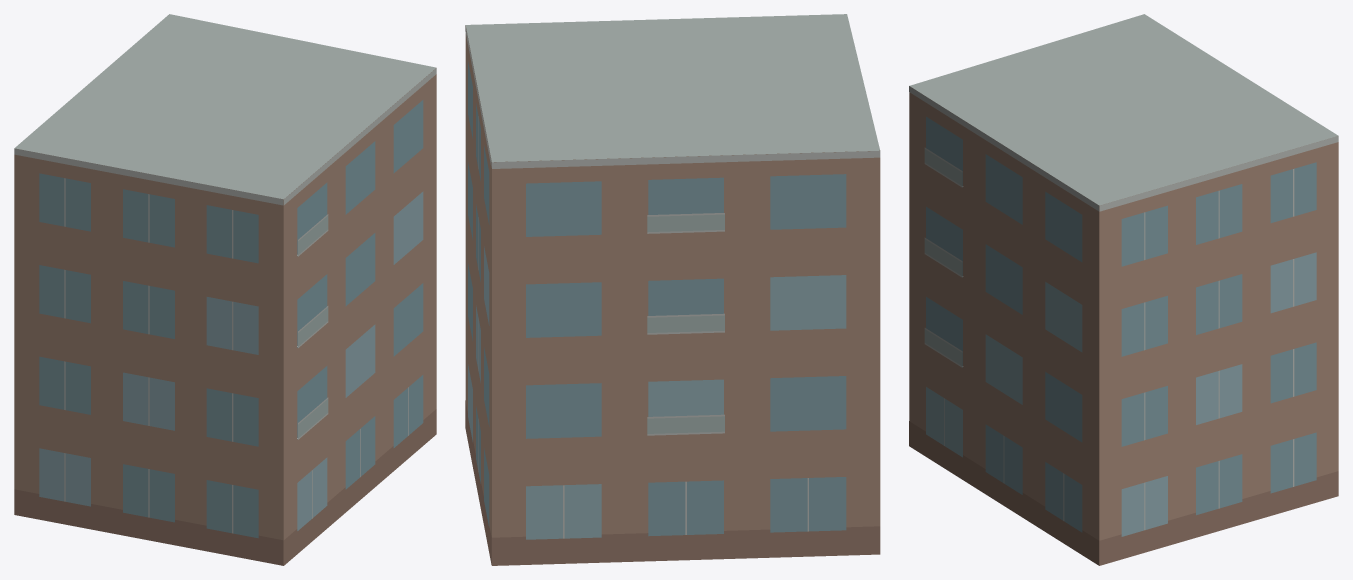
Rendered from survey-upis-32918822.glb.
3 renders of one model, left to right at view 1: azimuth 30°, elevation 25°; view 2: azimuth 150°, elevation 25°; view 3: azimuth 270°, elevation 25°, orthographic. The views are drawn at different scales.
Visible parts, largest first — view 1: survey-upis-32918822.tmp; view 2: survey-upis-32918822.tmp; view 3: survey-upis-32918822.tmp.
Part boxes in pixels (x1,y1,x2,y2): survey-upis-32918822.tmp: [14, 14, 436, 565]; survey-upis-32918822.tmp: [465, 14, 880, 565]; survey-upis-32918822.tmp: [909, 14, 1338, 565].
Bounding box in the file's own units: 16.32 × 14.3 × 15.46.
